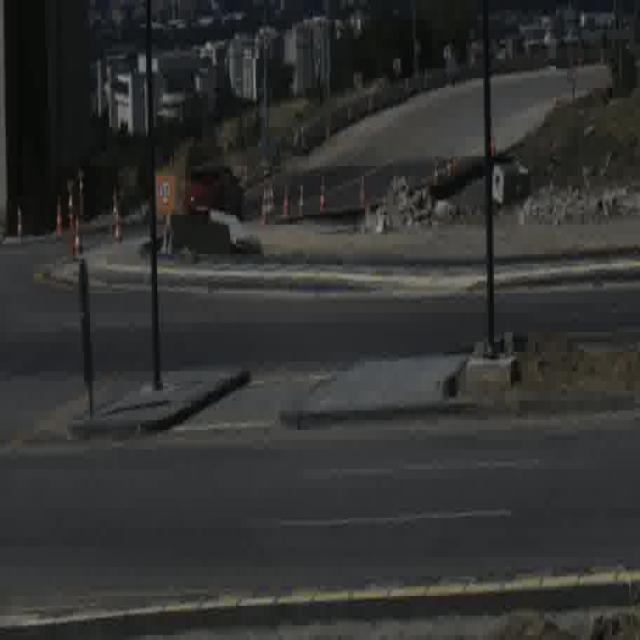Car: (186, 165, 242, 223)
